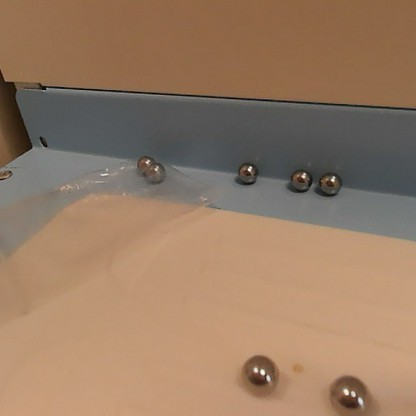ironball: (322, 371, 377, 414), (238, 352, 283, 398), (314, 169, 347, 196), (283, 165, 313, 193), (145, 162, 168, 185), (234, 161, 258, 183), (134, 153, 157, 170)
